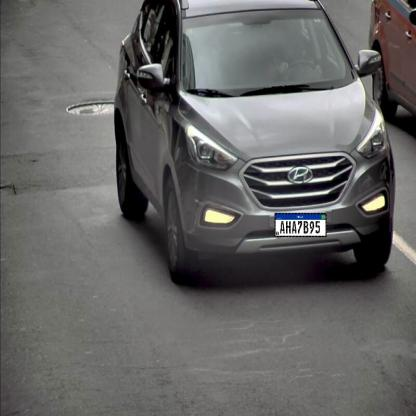PlacaM: (274, 213, 326, 237)
